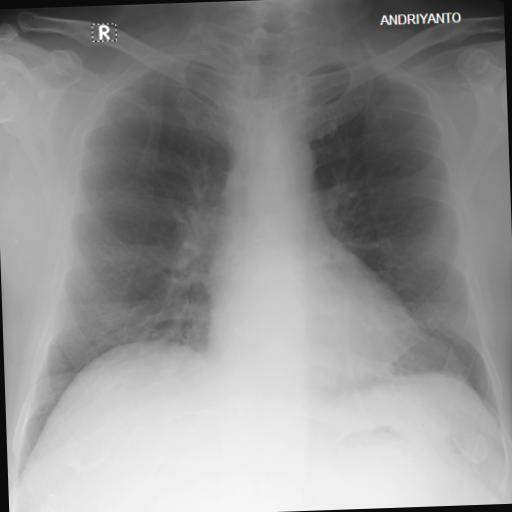kardiomegali: (0, 1, 508, 456)
